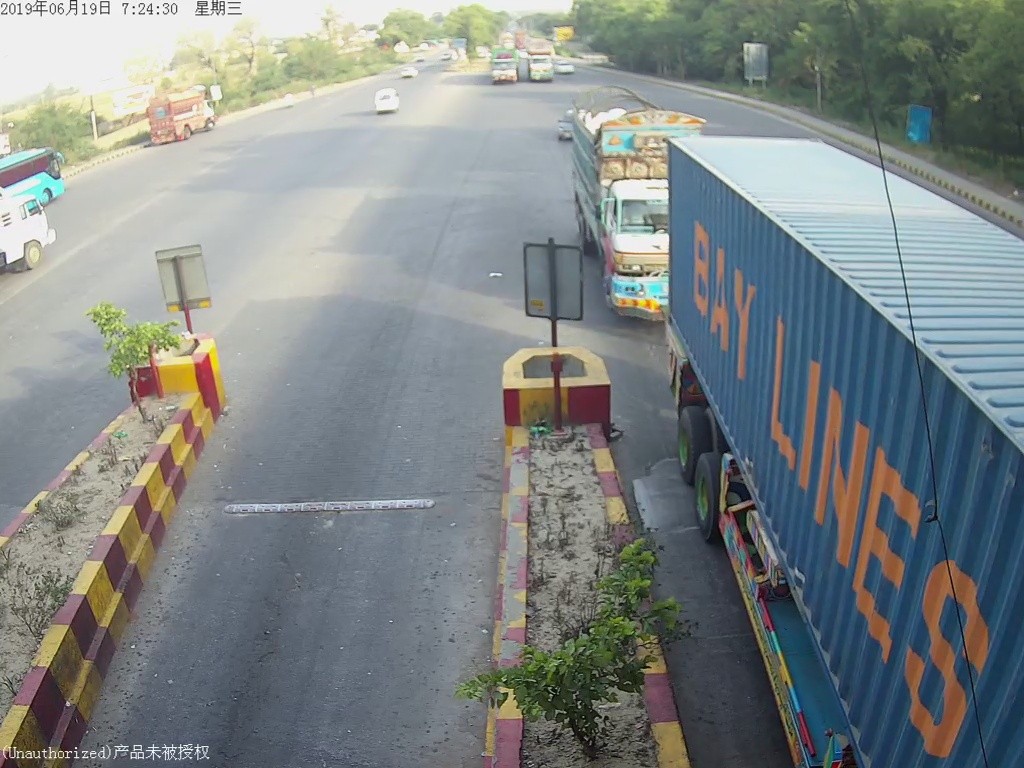Cat-4: (581, 98, 674, 316)
